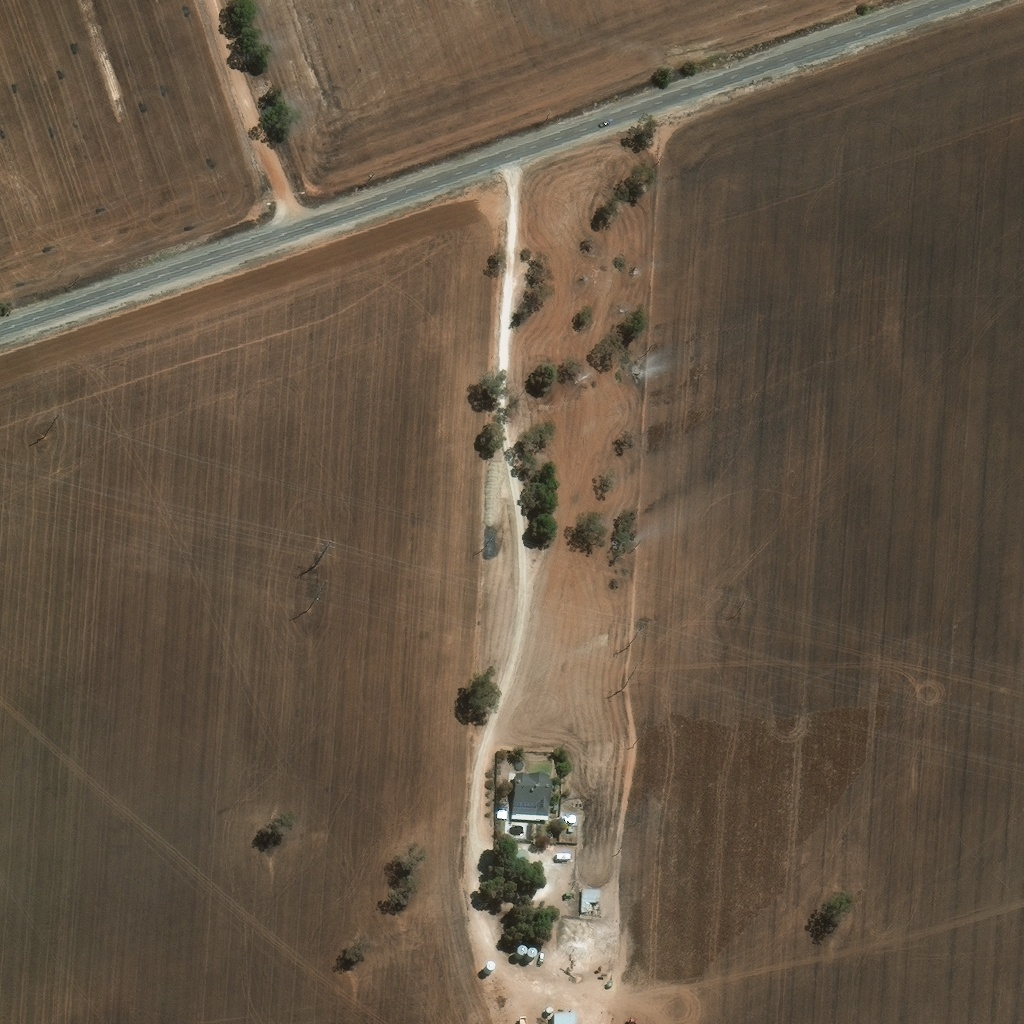0 no-damage: (514, 783, 553, 830), (562, 833, 583, 853), (518, 954, 540, 971), (487, 970, 498, 980), (549, 1016, 556, 1023)
2 major-damage: (585, 900, 605, 924)
4 un-classified: (492, 980, 501, 988), (494, 988, 503, 996)
